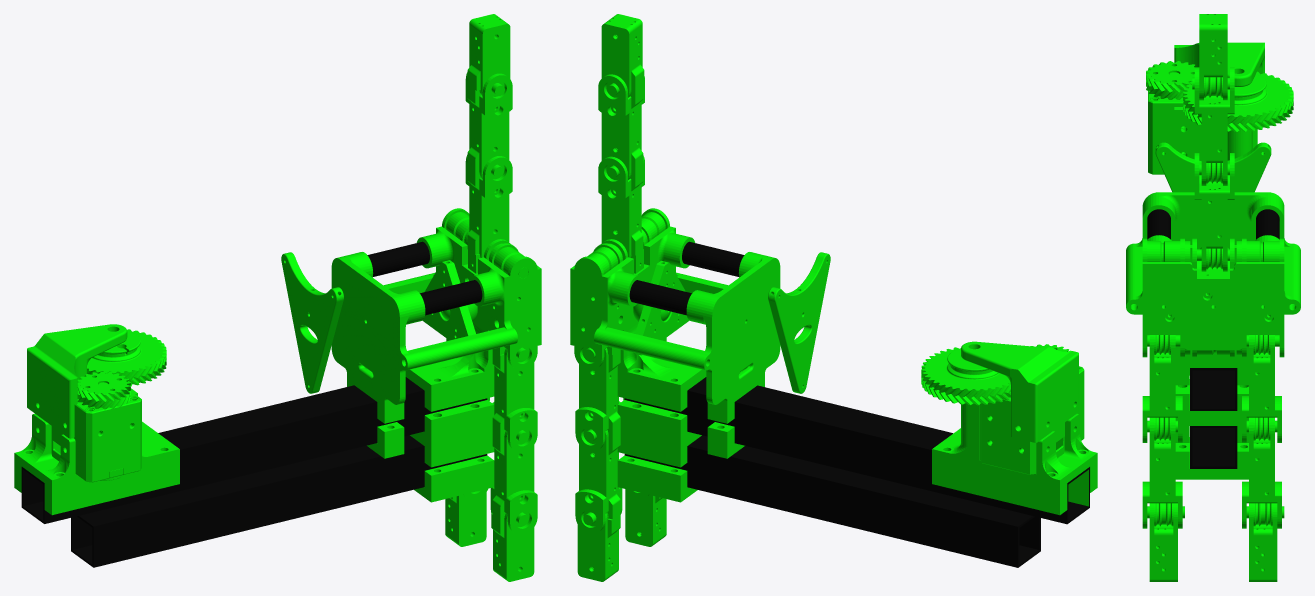
File: hand9_handmech_all.dae
The picture shows the model from 3 angles, left to right: view 1: azimuth 30°, elevation 25°; view 2: azimuth 150°, elevation 25°; view 3: azimuth 270°, elevation 25°; orthographic projection. The views are drawn at different scales.
Visible parts, largest first — view 1: hand9_handmech_USD; view 2: hand9_handmech_USD; view 3: hand9_handmech_USD.
Boxes of the visible parts, bbox=[...] form: hand9_handmech_USD: bbox=[14, 14, 541, 581]; hand9_handmech_USD: bbox=[570, 14, 1097, 581]; hand9_handmech_USD: bbox=[1126, 14, 1300, 581].
Size of the model in its own units: 2.41 by 0.74 by 2.6.
